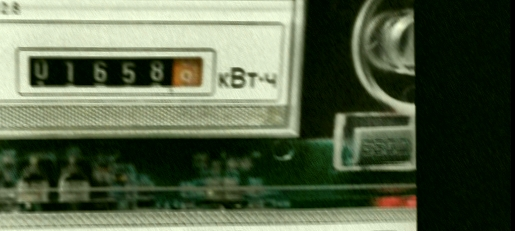0: (31, 58, 49, 79)
1: (61, 59, 76, 83)
5: (119, 60, 136, 84)
6: (90, 59, 109, 83)
8: (147, 59, 165, 82)
9: (176, 67, 193, 88)
screen: (12, 42, 219, 103)
